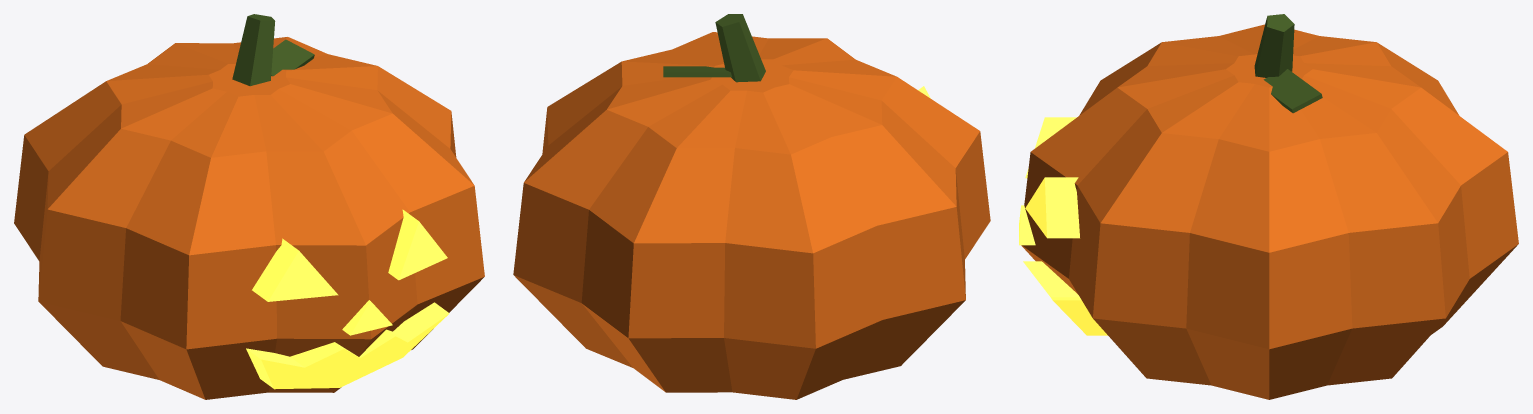
Rendered from SM_Pumpkin_JackOLantern.glb.
3 renders of one model, left to right at view 1: azimuth 30°, elevation 25°; view 2: azimuth 150°, elevation 25°; view 3: azimuth 270°, elevation 25°, orthographic. The views are drawn at different scales.
Parts seen in each view (by area): view 1: SM_Pumpkin_JackOLantern; view 2: SM_Pumpkin_JackOLantern; view 3: SM_Pumpkin_JackOLantern.
Boxes of the visible parts, x1=… form: SM_Pumpkin_JackOLantern: x1=14, y1=14, x2=484, y2=399; SM_Pumpkin_JackOLantern: x1=513, y1=14, x2=990, y2=399; SM_Pumpkin_JackOLantern: x1=1019, y1=14, x2=1518, y2=399.
Size of the model in its own units: 0.4922 by 0.3736 by 0.4929.
Materials: 1 (1 with a texture image).
